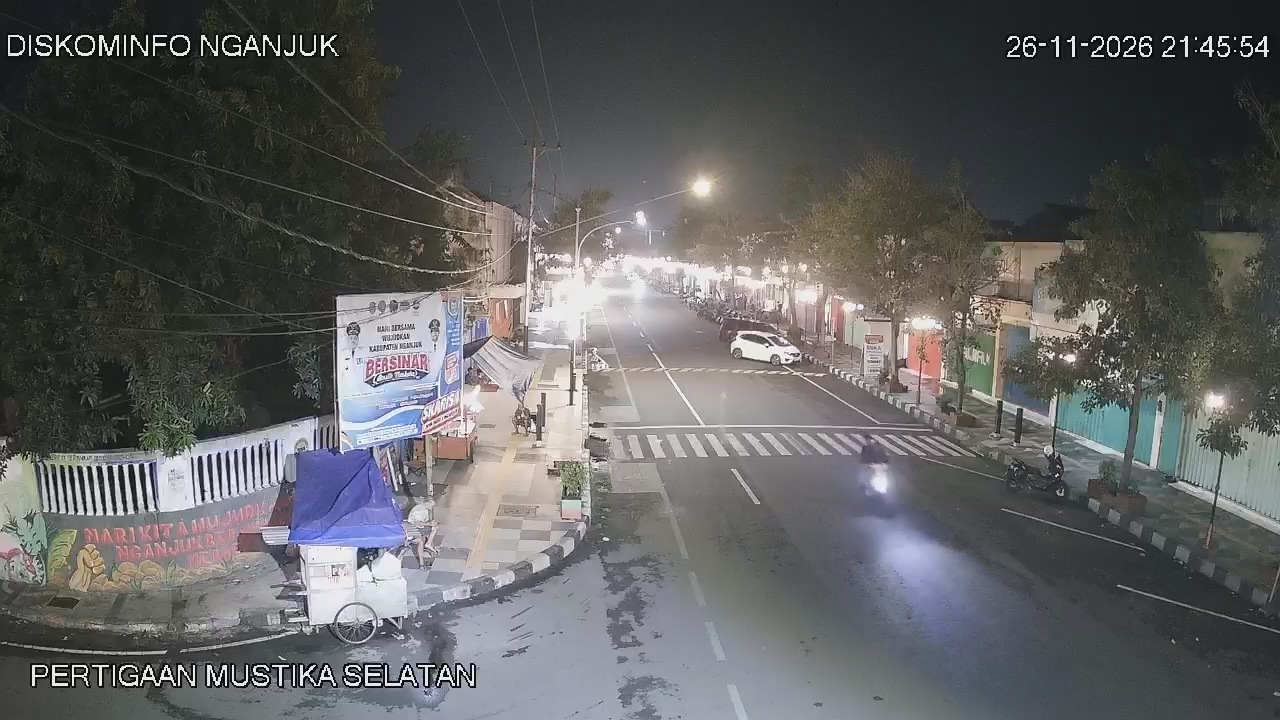Gerobak: (284, 540, 408, 643)
